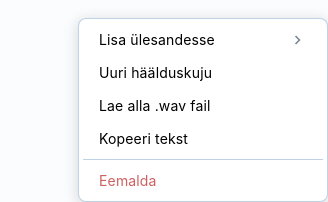
Test case: SentenceMenu structure and classes › search input has visually-hidden label
This screenshot has width=328, height=202.
(page scrolled)
Click the text "Lisa ülesandesse" at (157, 40), box [99,29,215,50]
(page scrolled)
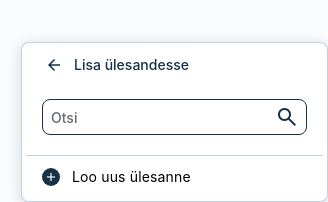
expect the field named "Otsi ülesandeid" is shown: met, box [42,99,307,135]
